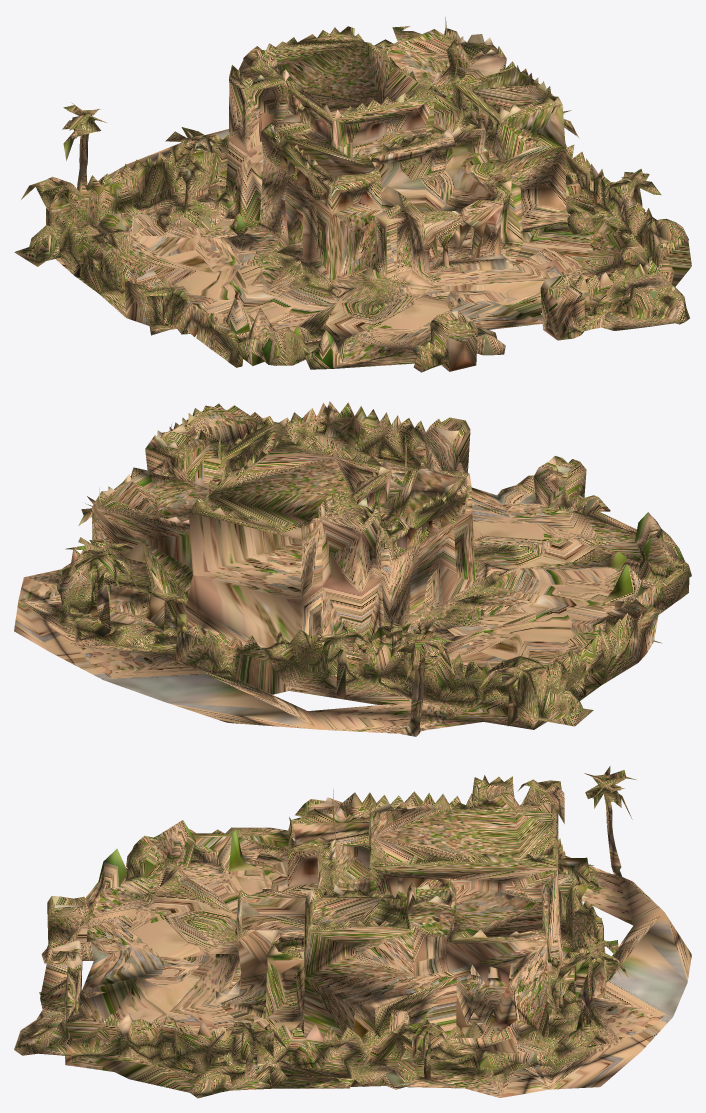
Rendered from Desert_Fortress.glb.
The picture shows the model from 3 angles, top to bottom: view 1: azimuth 30°, elevation 25°; view 2: azimuth 150°, elevation 25°; view 3: azimuth 270°, elevation 25°; orthographic projection. The views are drawn at different scales.
Parts seen in each view (by area): view 1: Desert_Fortress; view 2: Desert_Fortress; view 3: Desert_Fortress.
Part boxes in pixels (<box>): Desert_Fortress: <box>14,17,691,372</box>; Desert_Fortress: <box>14,401,691,736</box>; Desert_Fortress: <box>14,766,691,1098</box>.
Size of the model in its own units: 1.85 by 0.543 by 1.9.
1 material, 1 textured.
